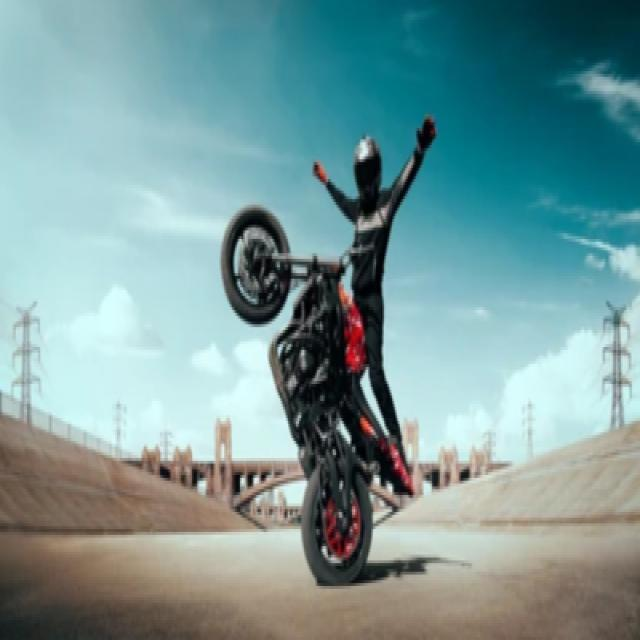Wheeling: (210, 99, 440, 593)
